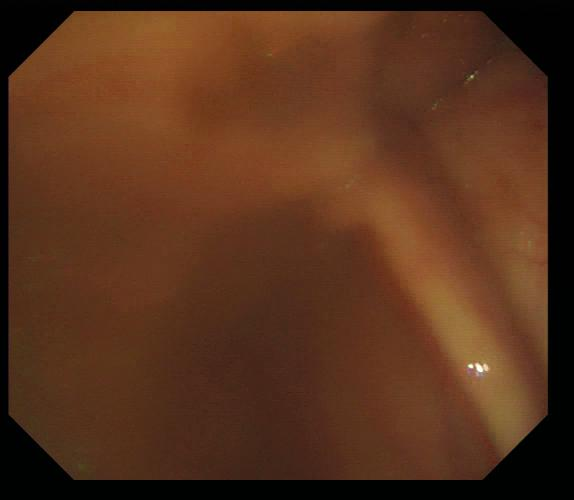polyp: (307, 189, 368, 232)
